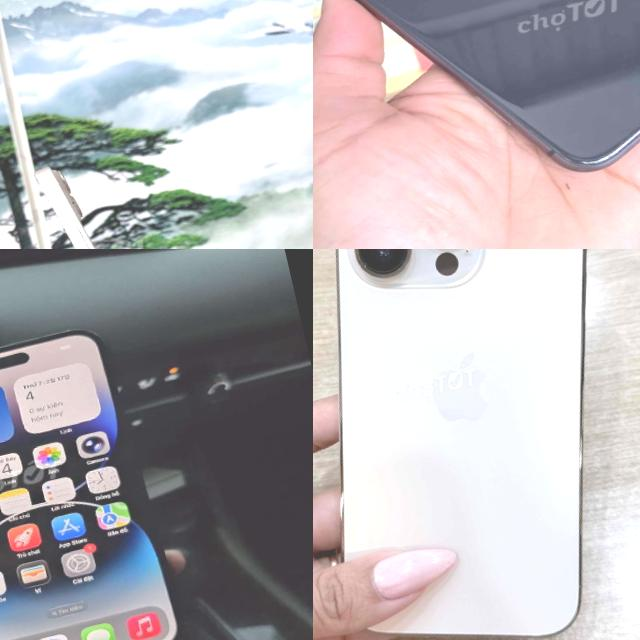gen_11: (313, 0, 640, 234)
gen_14: (313, 249, 640, 640), (0, 307, 193, 640), (18, 146, 190, 249)
